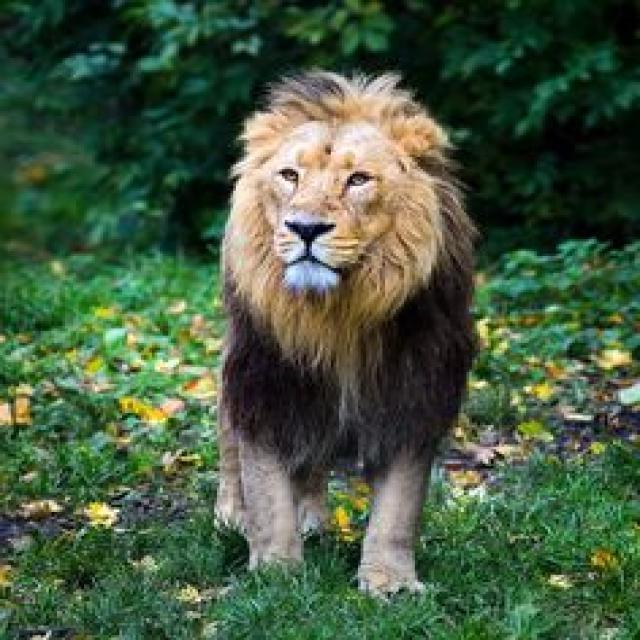lions: (53, 14, 521, 615)
